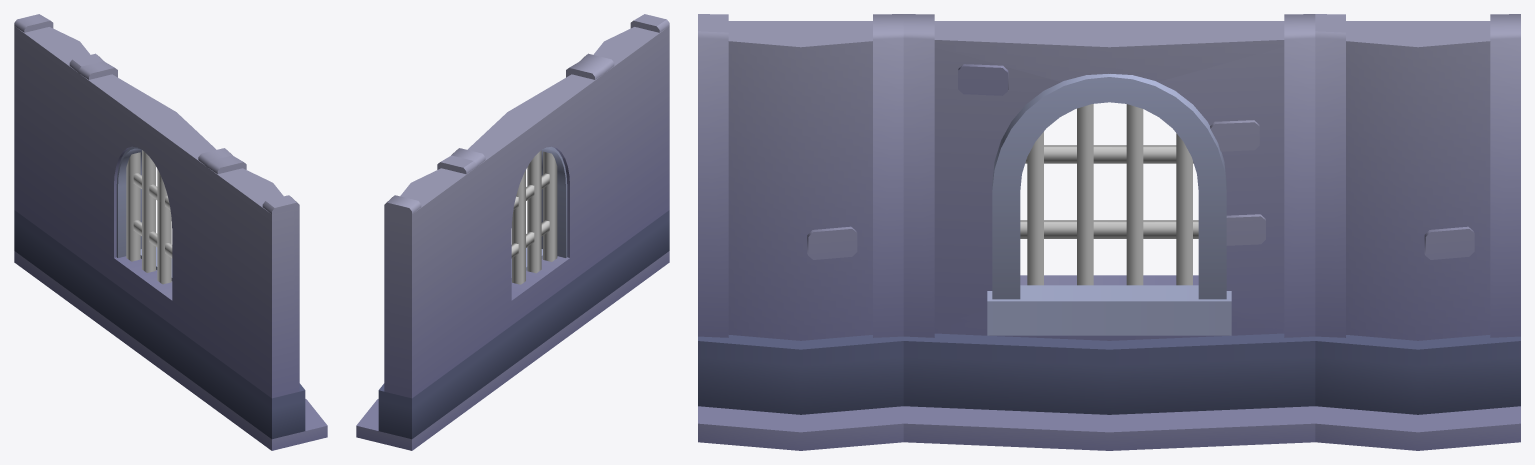
File: corridor-wide-window.fbx
3 renders of one model, left to right at view 1: azimuth 30°, elevation 25°; view 2: azimuth 150°, elevation 25°; view 3: azimuth 270°, elevation 25°, orthographic. The views are drawn at different scales.
Visible parts, largest first — view 1: corridor-wide.032; view 2: corridor-wide.032; view 3: corridor-wide.032.
Part boxes in pixels (x1,y1,x2,y2): corridor-wide.032: (14, 14, 327, 450); corridor-wide.032: (356, 14, 669, 450); corridor-wide.032: (698, 14, 1520, 450).
Bounding box in the file's own units: 48.08 × 166 × 320.
